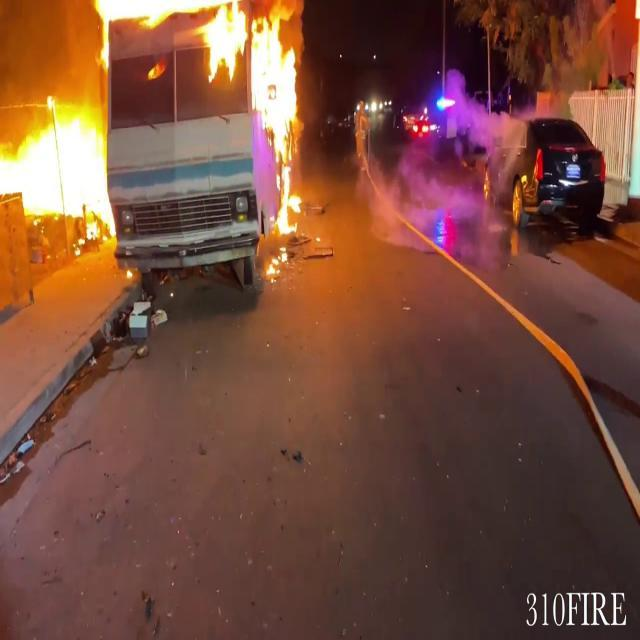Fire: (0, 88, 120, 244), (200, 0, 301, 137), (272, 128, 304, 244)
Smoke: (470, 104, 528, 174)
